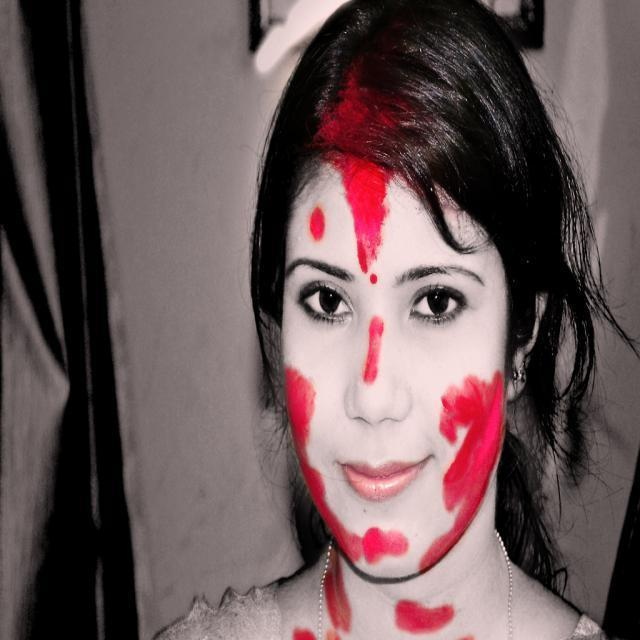closed-mouth: (334, 455, 434, 502)
